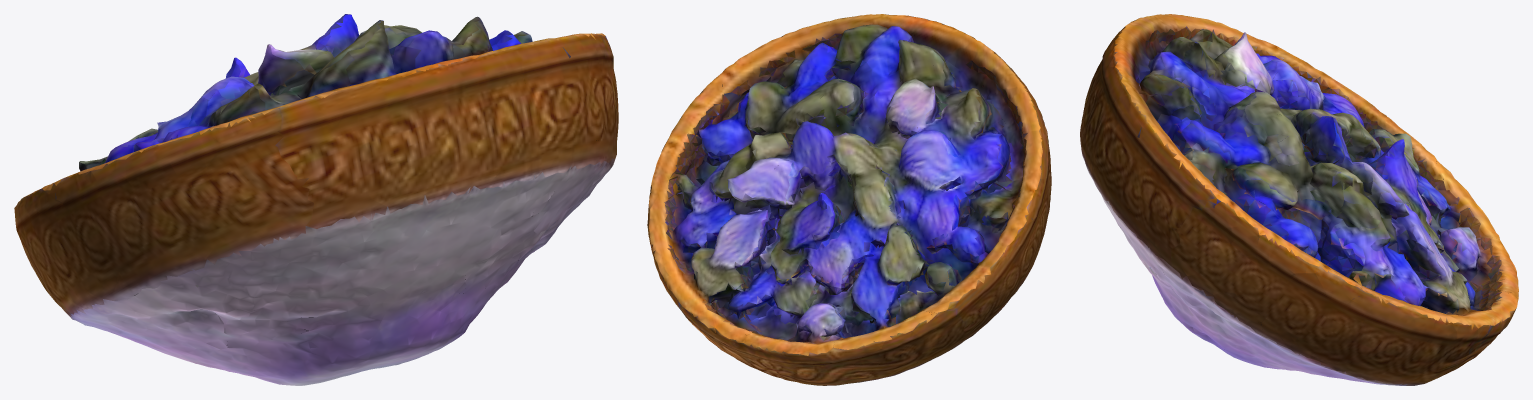
The model's file is dress-petal-bowl.glb.
3 views of the same model, side by side, from view 1: azimuth 30°, elevation 25°; view 2: azimuth 150°, elevation 25°; view 3: azimuth 270°, elevation 25° (orthographic). The views are drawn at different scales.
Parts seen in each view (by area): view 1: world; view 2: world; view 3: world.
Part boxes in pixels (bbox=[...]): world: bbox=[14, 14, 618, 385]; world: bbox=[647, 14, 1051, 385]; world: bbox=[1080, 14, 1518, 385].
Size of the model in its own units: 0.9921 by 0.7048 by 0.8947.
Materials: 1 (1 with a texture image).
